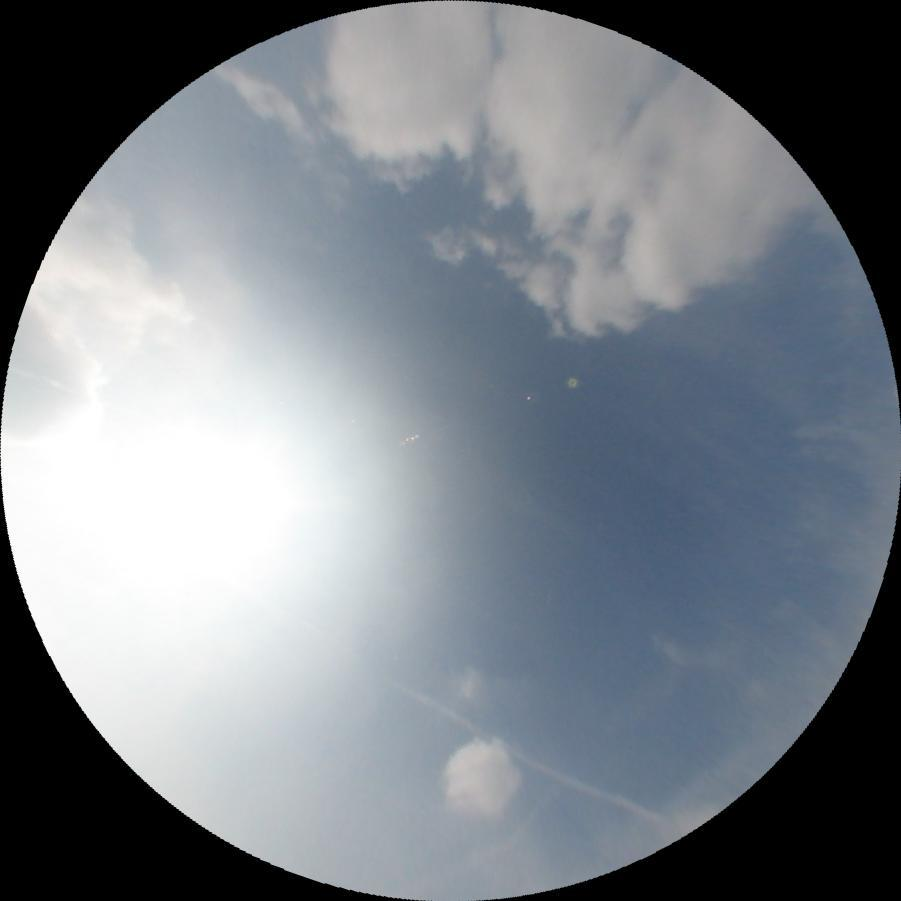contrail old: (384, 679, 658, 828)
sun: (15, 393, 315, 655)
